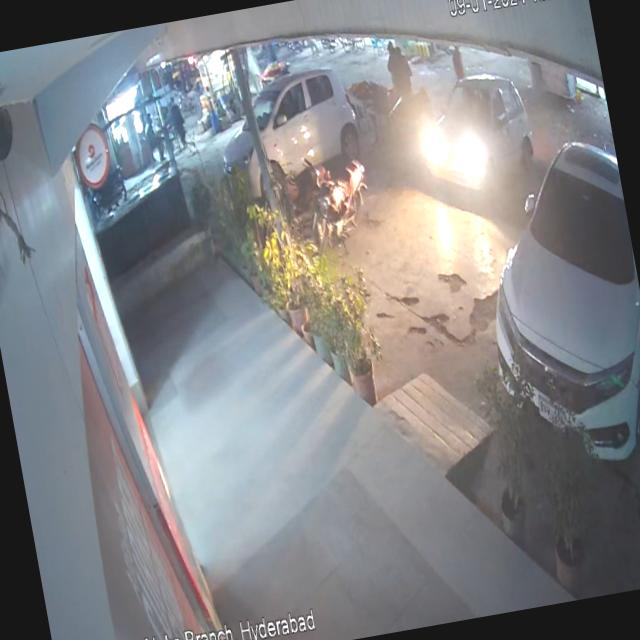Car: (451, 89, 640, 491), (408, 56, 540, 282), (187, 48, 369, 195)
Motorcycle: (296, 137, 378, 255)
